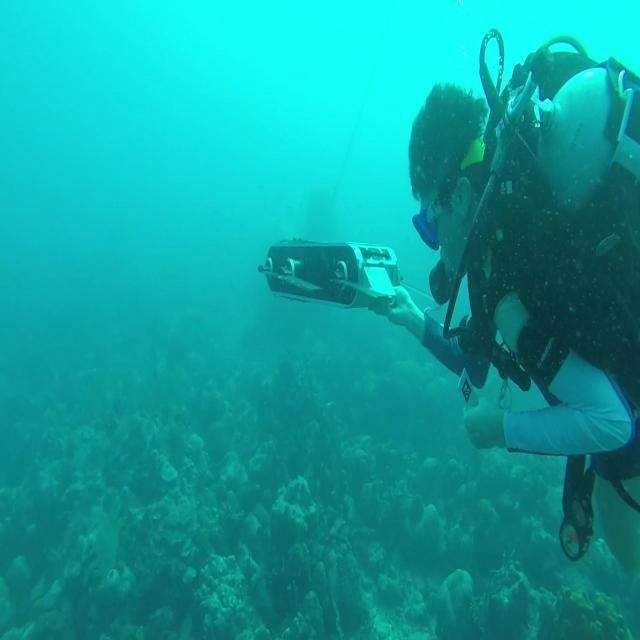human: (370, 31, 639, 565)
